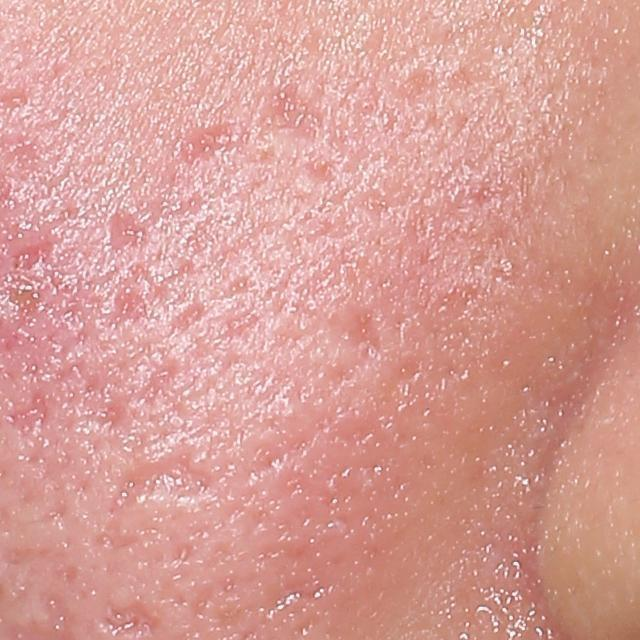atrophic_scar: (121, 306, 274, 413), (101, 438, 226, 547), (379, 278, 481, 401), (238, 413, 354, 498), (400, 60, 480, 153), (107, 265, 195, 333), (171, 118, 250, 174), (258, 78, 322, 140), (328, 297, 386, 358), (107, 203, 151, 257), (299, 158, 344, 187), (166, 303, 210, 332)
